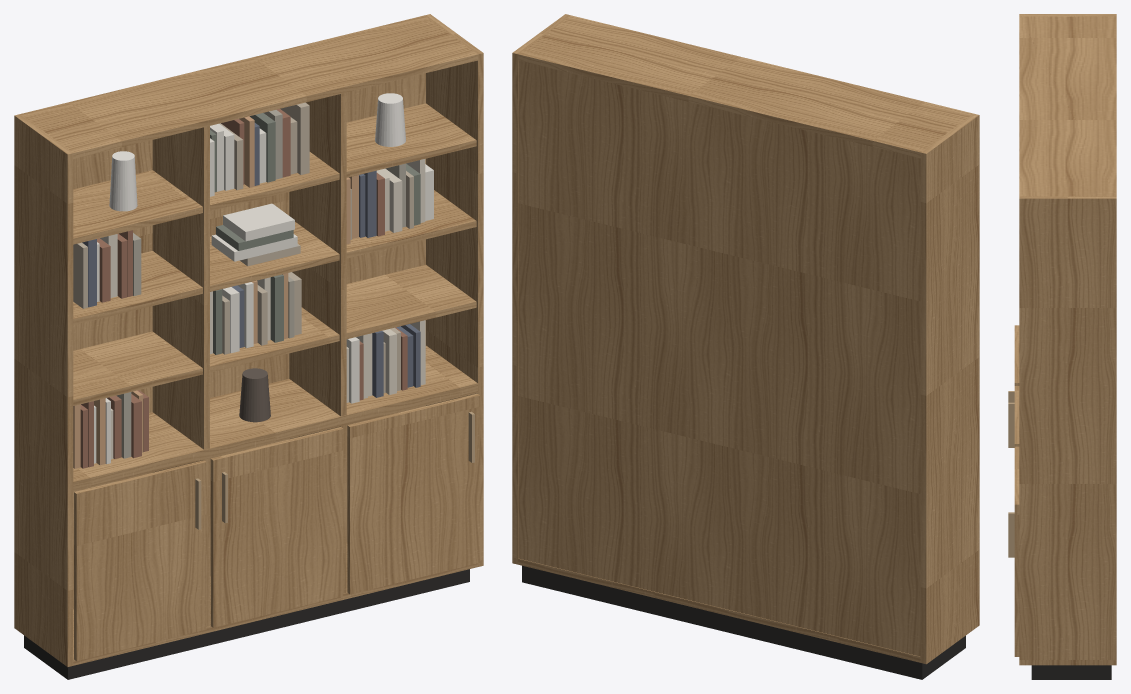
Rendered from libreria-180x220.glb.
The picture shows the model from 3 angles, left to right: view 1: azimuth 30°, elevation 25°; view 2: azimuth 150°, elevation 25°; view 3: azimuth 270°, elevation 25°; orthographic projection. The views are drawn at different scales.
Visible parts, largest first — view 1: finitura, schienale, libro4, libro3, libro0, zoccolo, libro2, libro5, libro1, libro6, ceramica, libro7 (+2 smaller); view 2: schienale, finitura, zoccolo; view 3: finitura, zoccolo, bronzo.
Boxes of the visible parts, left/top/right/bottom form: finitura: left=14, top=14, right=483, bottom=666; schienale: left=73, top=73, right=425, bottom=609; libro4: left=94, top=123, right=433, bottom=464; libro3: left=80, top=109, right=407, bottom=468; libro0: left=73, top=102, right=413, bottom=393; zoccolo: left=24, top=569, right=469, bottom=679; libro2: left=100, top=159, right=425, bottom=459; libro5: left=82, top=123, right=420, bottom=397; libro1: left=210, top=113, right=420, bottom=354; libro6: left=73, top=116, right=358, bottom=468; ceramica: left=109, top=93, right=405, bottom=211; libro7: left=116, top=110, right=405, bottom=458; schienale: left=518, top=60, right=920, bottom=656; finitura: left=512, top=14, right=979, bottom=664; zoccolo: left=522, top=565, right=965, bottom=679; finitura: left=1014, top=14, right=1116, bottom=665; zoccolo: left=1031, top=665, right=1111, bottom=679; bronzo: left=1008, top=391, right=1014, bottom=557.
Bounding box in the file's own units: 1.8 × 2.2 × 0.445.
15 materials, 2 textured.
